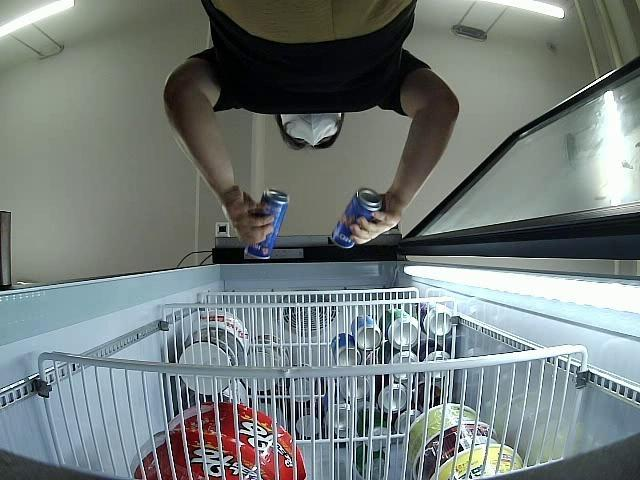16_hot6: (328, 188, 382, 246), (244, 191, 289, 260)
